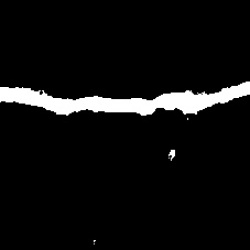crack: (0, 82, 247, 117), (167, 149, 173, 160)
